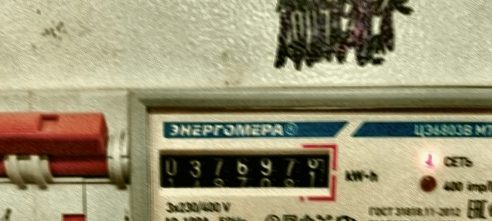0: (162, 156, 175, 176)
1: (304, 169, 316, 187)
3: (186, 158, 199, 178)
6: (233, 154, 246, 175)
7: (209, 155, 222, 176), (281, 155, 293, 177)
9: (257, 156, 269, 177)
screen: (149, 138, 340, 204)
